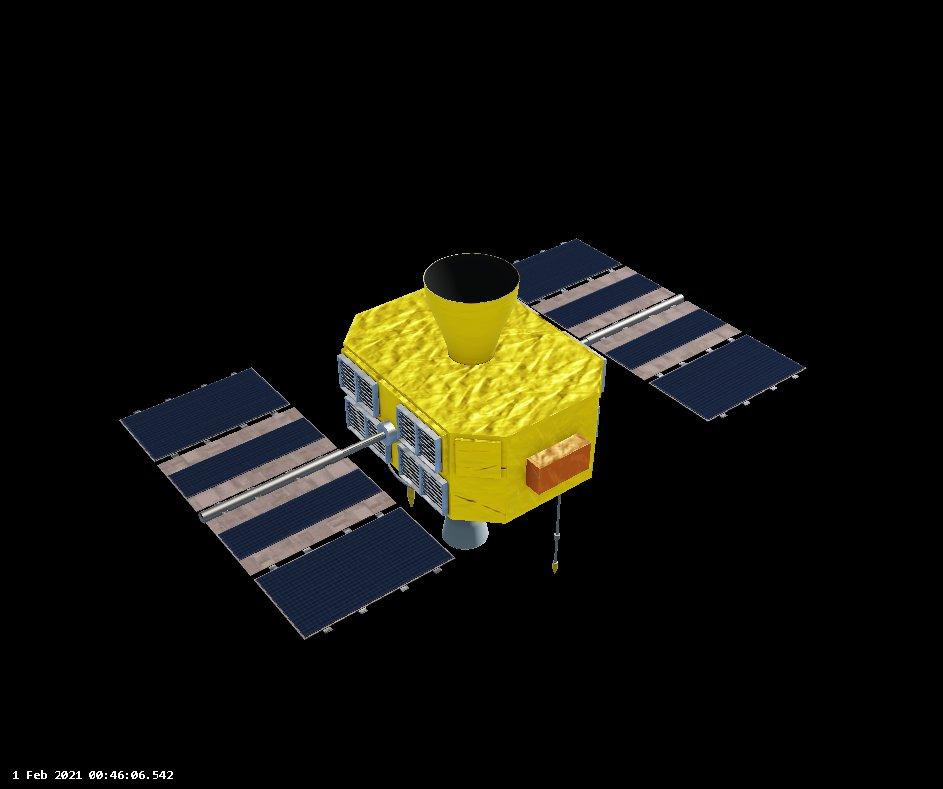antenna: (548, 488, 570, 577)
body: (334, 287, 607, 527)
solar: (116, 365, 457, 645), (508, 236, 808, 423)
thruster: (416, 248, 524, 370), (440, 512, 491, 552)
